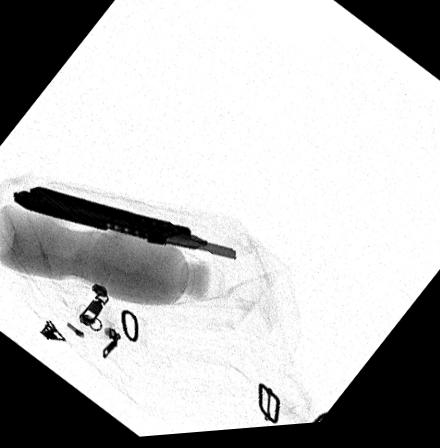Knife: (11, 185, 237, 263)
